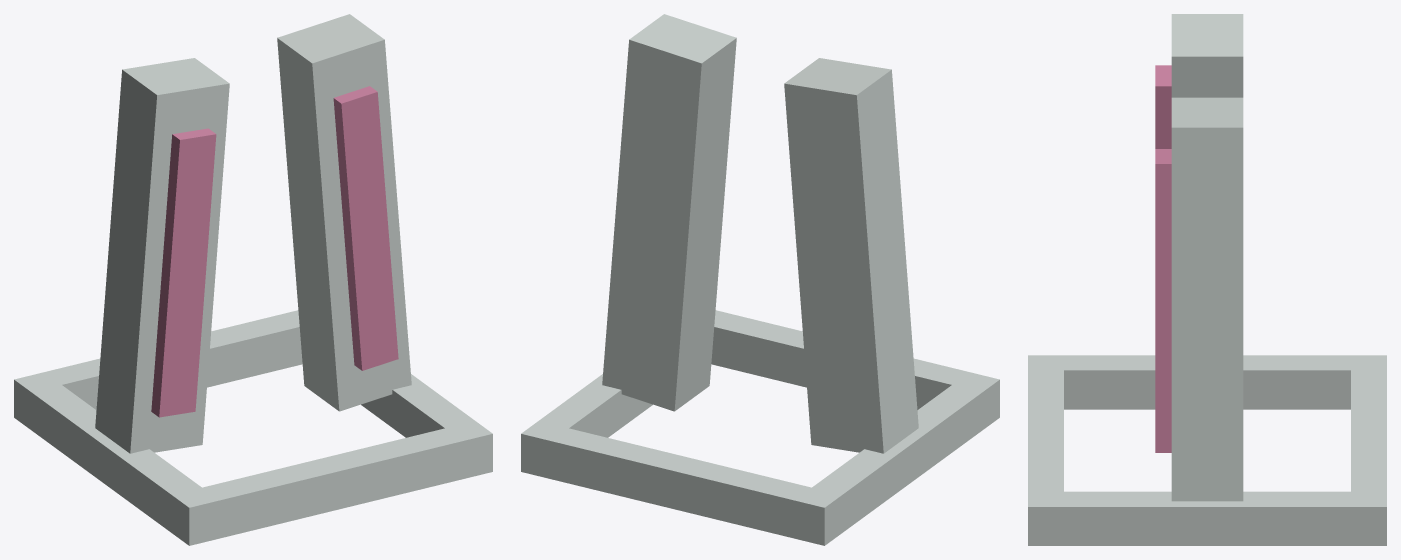
File: bunny_ears.glb
The picture shows the model from 3 angles, left to right: view 1: azimuth 30°, elevation 25°; view 2: azimuth 150°, elevation 25°; view 3: azimuth 270°, elevation 25°; orthographic projection. The views are drawn at different scales.
Visible parts, largest first — view 1: bunny_ears; view 2: bunny_ears; view 3: bunny_ears.
Part boxes in pixels (<box>): bunny_ears: <box>14,14,492,545</box>; bunny_ears: <box>521,14,999,545</box>; bunny_ears: <box>1028,14,1386,545</box>.
Bounding box in the file's own units: 0.5 × 0.6139 × 0.5.
